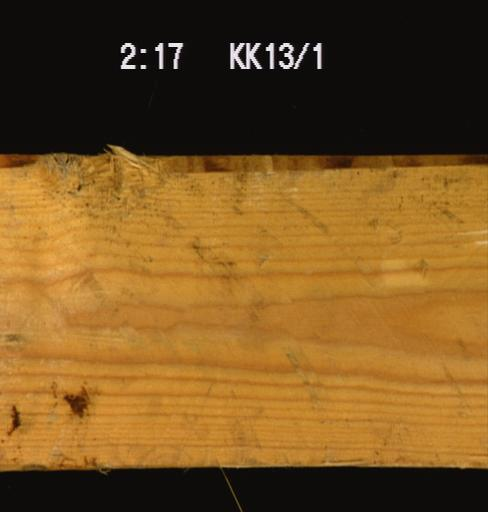edge_knot: (60, 154, 161, 213)
wave: (170, 154, 485, 177), (0, 154, 59, 166)
